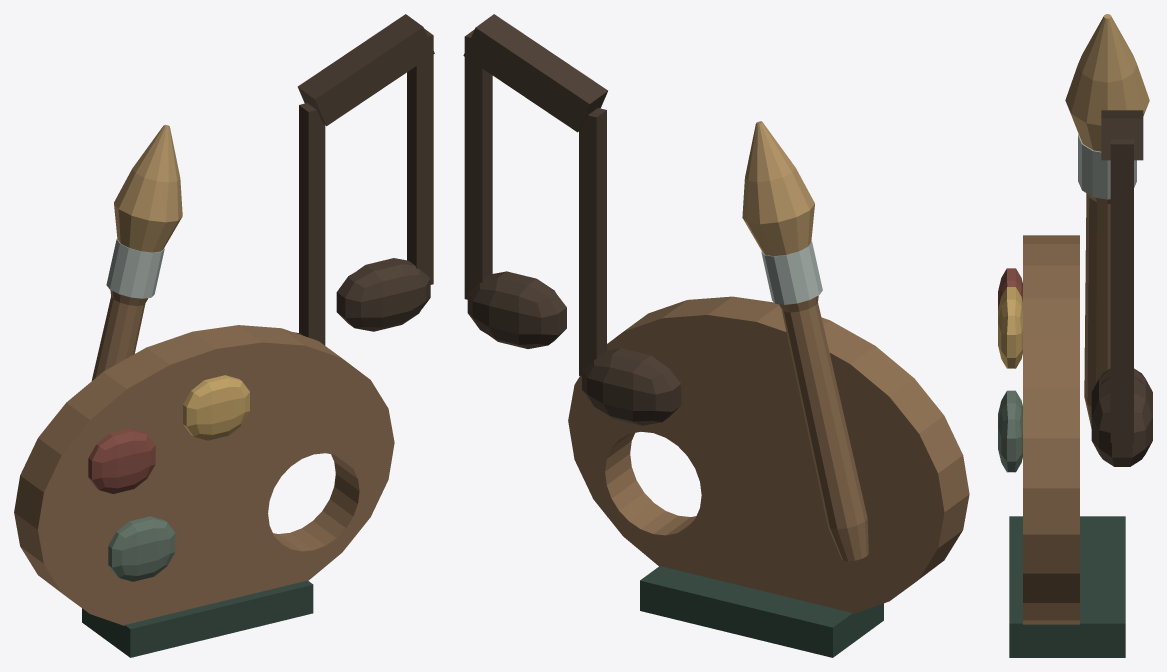
File: 07_Arts_Palette.fbx
The picture shows the model from 3 angles, left to right: view 1: azimuth 30°, elevation 25°; view 2: azimuth 150°, elevation 25°; view 3: azimuth 270°, elevation 25°; orthographic projection. The views are drawn at different scales.
Visible parts, largest first — view 1: 07_Arts_Palette__Body, 07_Arts_Palette__Music_Note, 07_Arts_Palette__Brush; view 2: 07_Arts_Palette__Body, 07_Arts_Palette__Music_Note, 07_Arts_Palette__Brush; view 3: 07_Arts_Palette__Body, 07_Arts_Palette__Brush, 07_Arts_Palette__Music_Note.
Part boxes in pixels (x1,y1,x2,y2): 07_Arts_Palette__Body: (14,325,394,657); 07_Arts_Palette__Music_Note: (293,14,434,345); 07_Arts_Palette__Brush: (91,124,182,380); 07_Arts_Palette__Body: (568,296,969,657); 07_Arts_Palette__Music_Note: (463,14,681,425); 07_Arts_Palette__Brush: (742,121,868,561); 07_Arts_Palette__Body: (998,235,1125,657); 07_Arts_Palette__Brush: (1065,14,1149,428); 07_Arts_Palette__Music_Note: (1091,110,1152,466).
Size of the model in its own units: 283 by 327 by 73.3.
2 materials, 2 textured.
